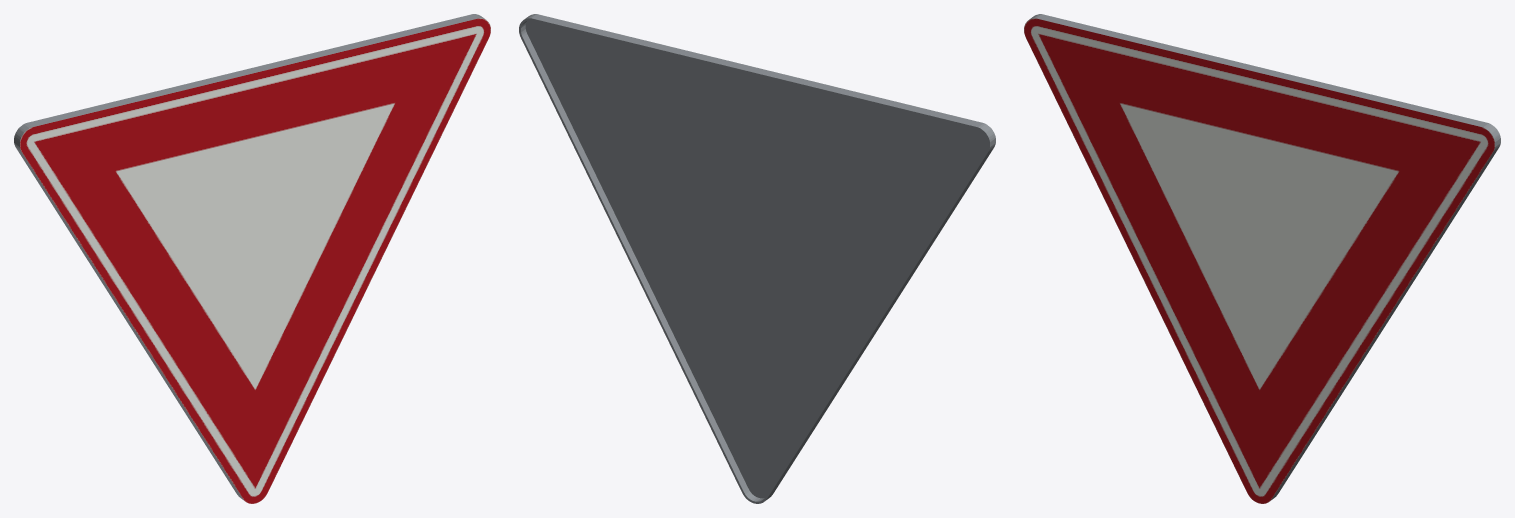
3 renders of one model, left to right at view 1: azimuth 30°, elevation 25°; view 2: azimuth 150°, elevation 25°; view 3: azimuth 330°, elevation 25°, orthographic.
Visible parts, largest first — view 1: B6; view 2: B6; view 3: B6.
Part boxes in pixels (x1=…): B6: x1=14, y1=14, x2=490, y2=503; B6: x1=519, y1=14, x2=995, y2=503; B6: x1=1024, y1=14, x2=1500, y2=503.
Bounding box in the file's own units: 0.6986 × 0.015 × 0.6104.
Materials: 2 (1 with a texture image).
